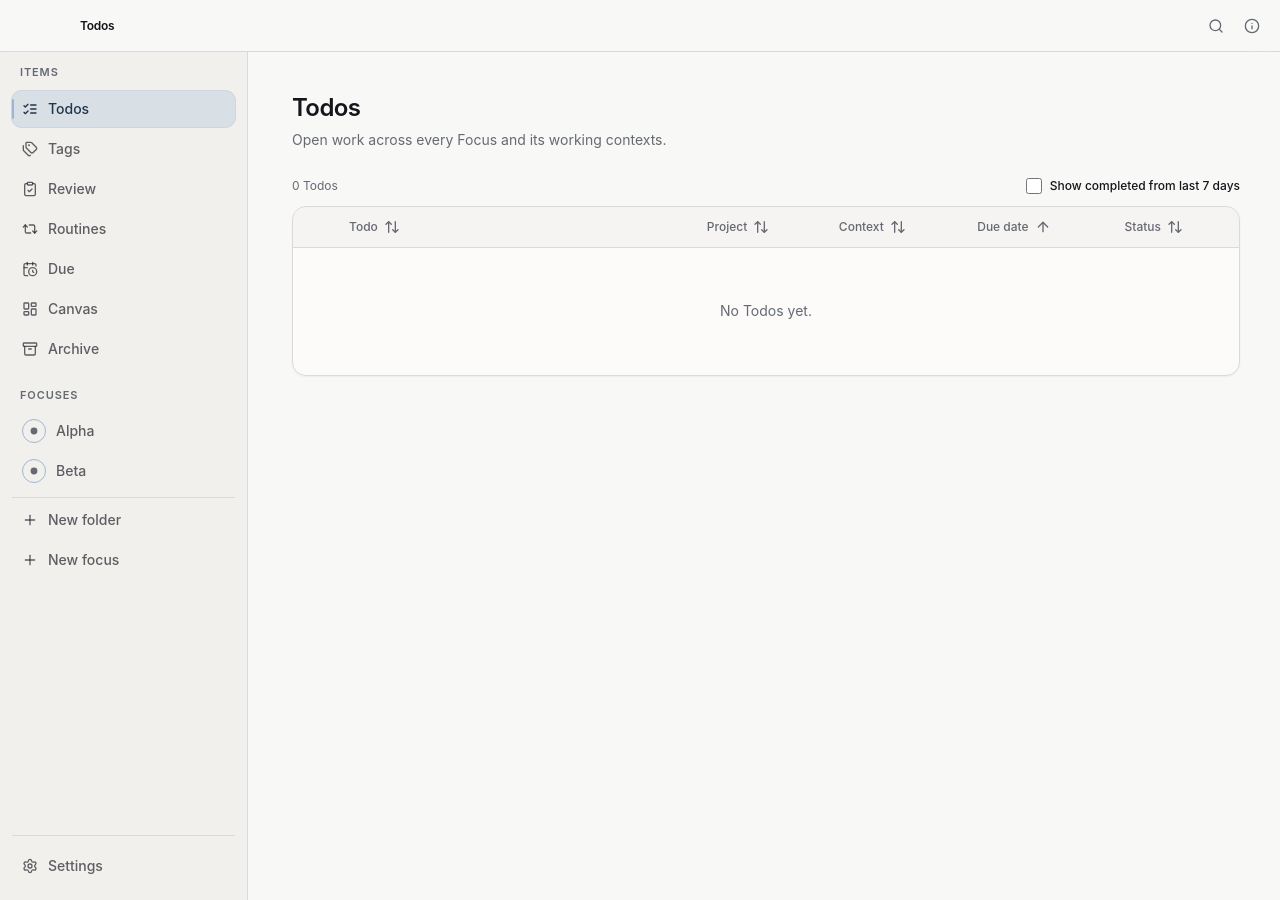
it: App › creates and deletes visual Focus folders without deleting their Focuses
Expected: the button "Alpha" is shown, [12,413,235,449]
Click the button "New folder" at (124, 520), box [12,502,235,538]
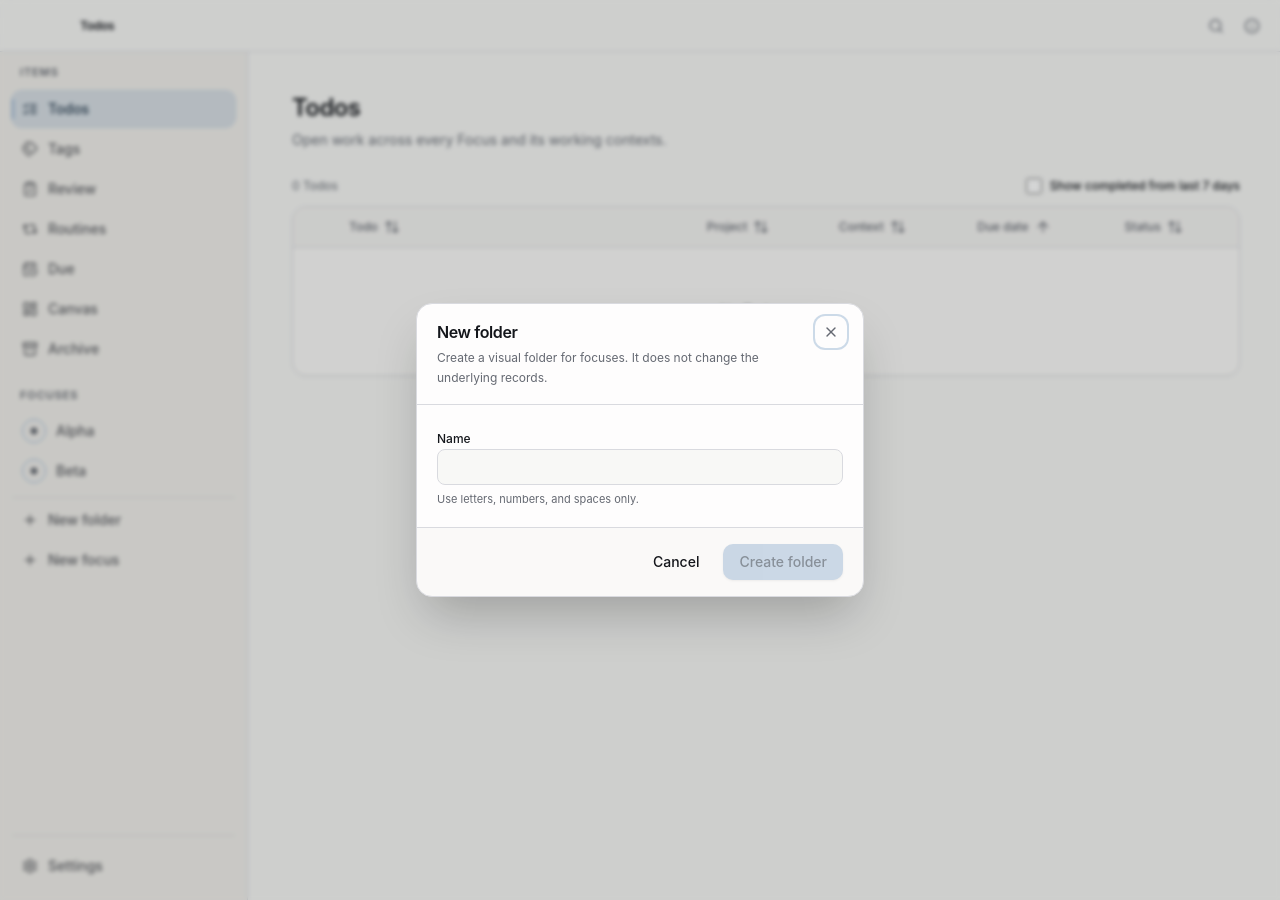
Type "Planning 2026" into the field labelled "Name" at (640, 467), box [437,449,843,485]
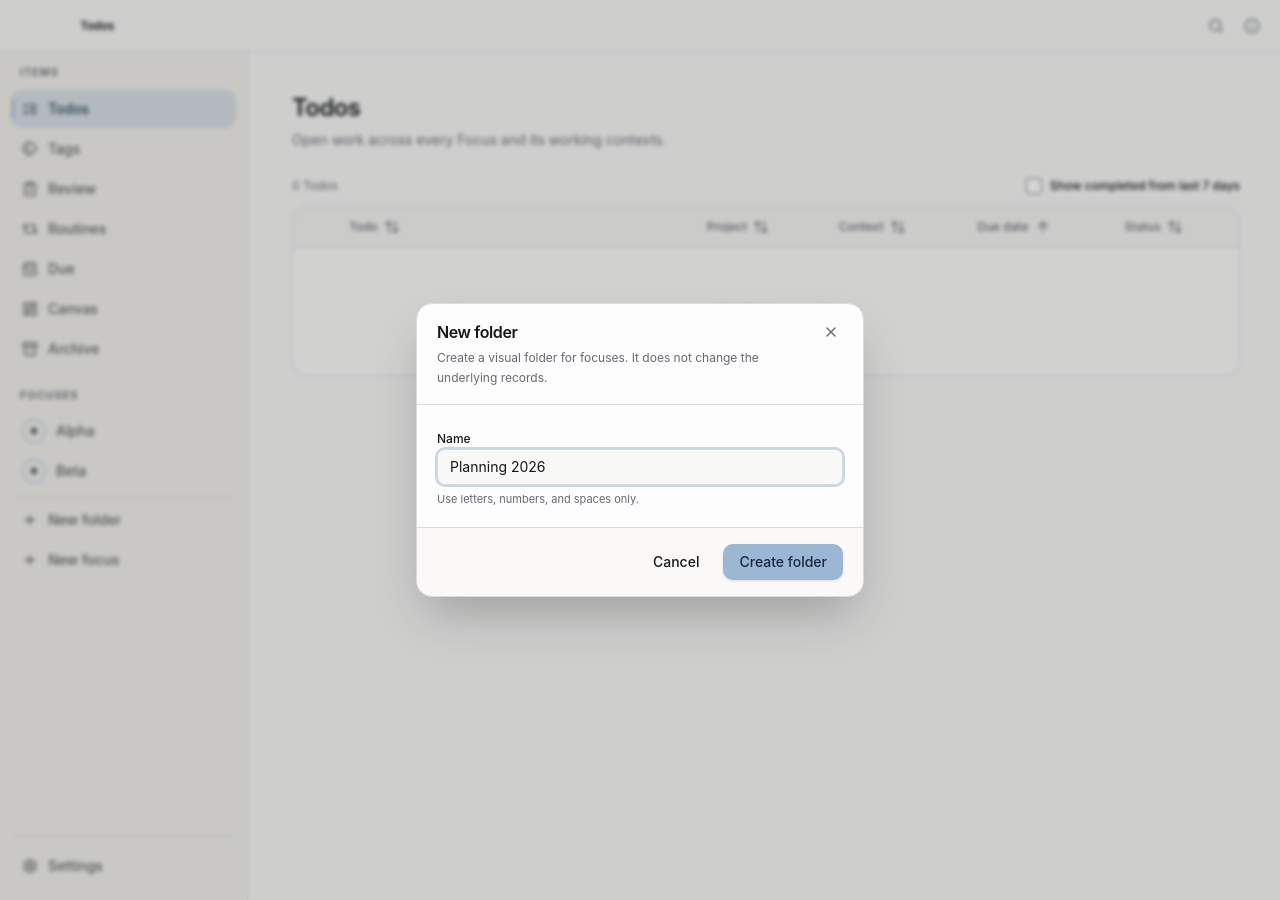
Click the button "Create folder" at (783, 562), box [724,544,843,580]
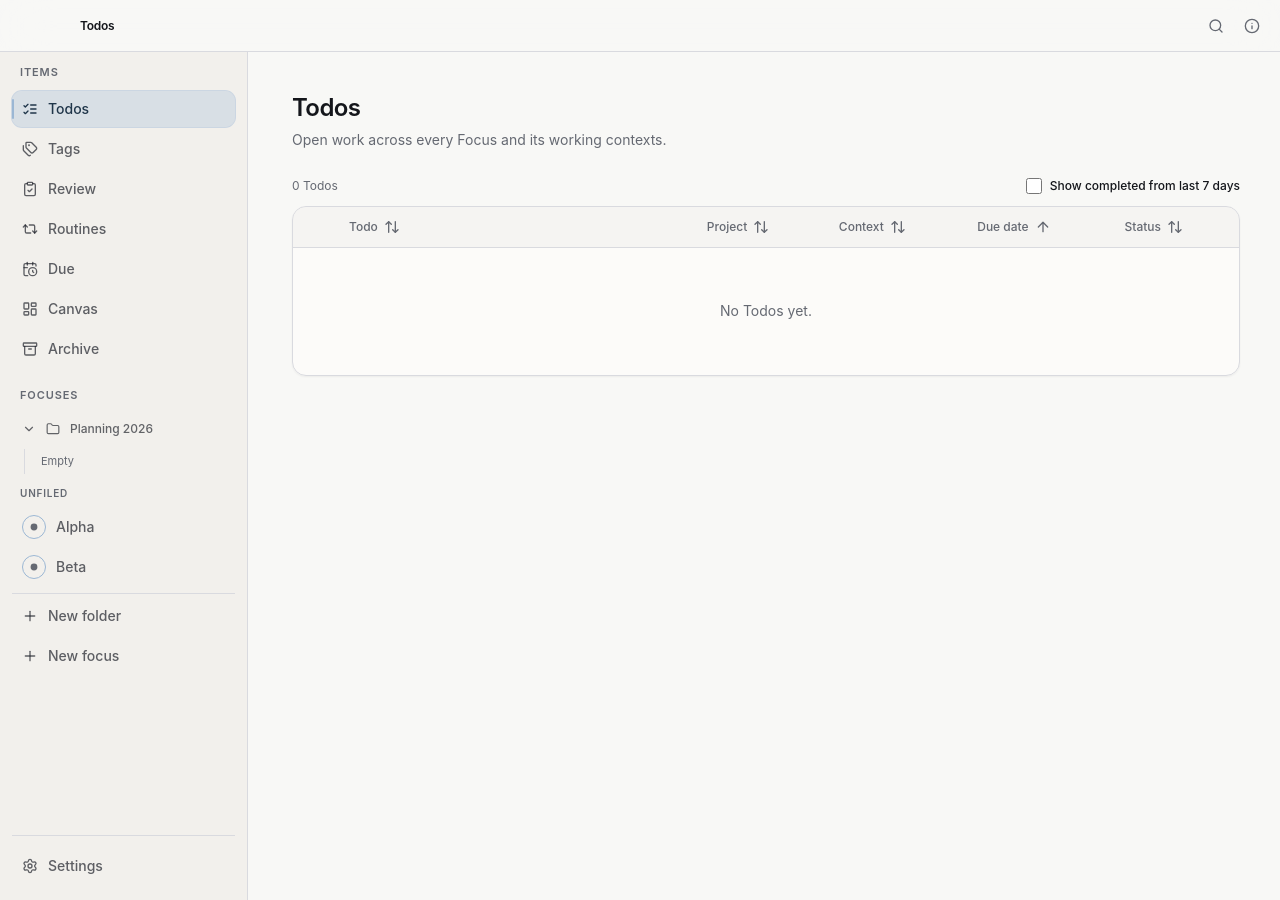
Right-click the button with aria-label "Planning 2026 folder" at (124, 429), box [12,413,235,445]
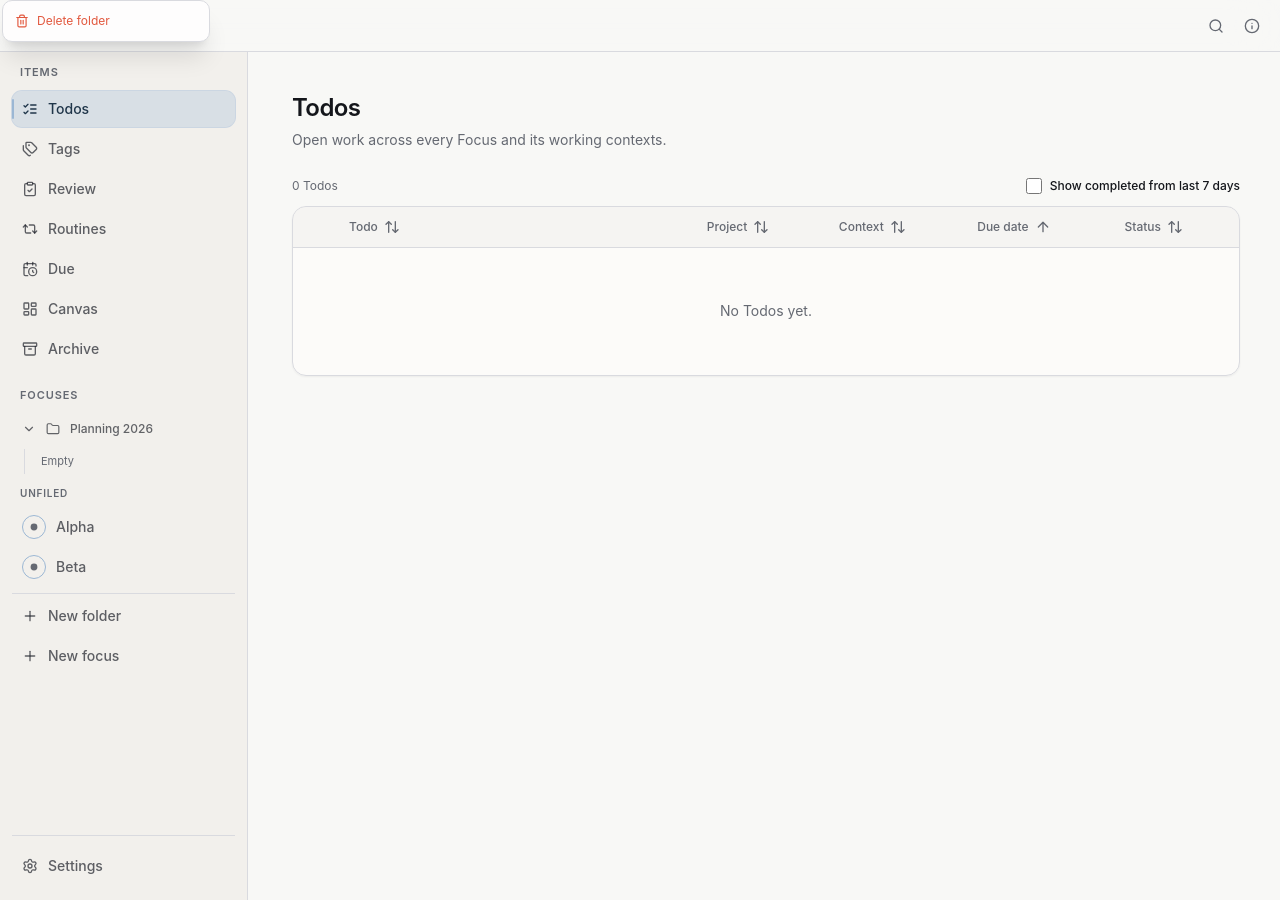
Click the menu item "Delete folder" at (62, 20), box [15,13,110,28]
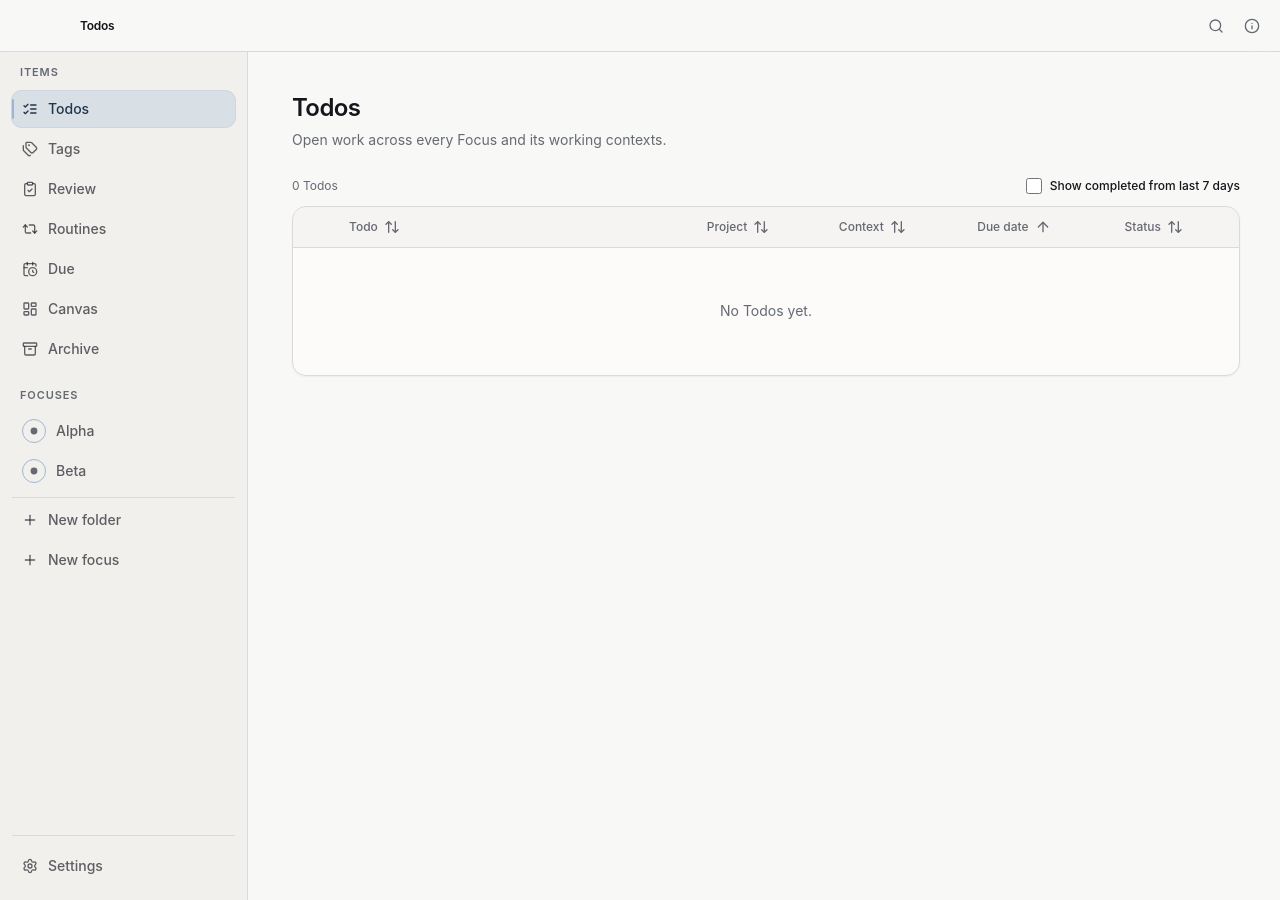
Expected: the button "Alpha" is shown, [12,413,235,449]
Now the menu item "Delete" is gone
